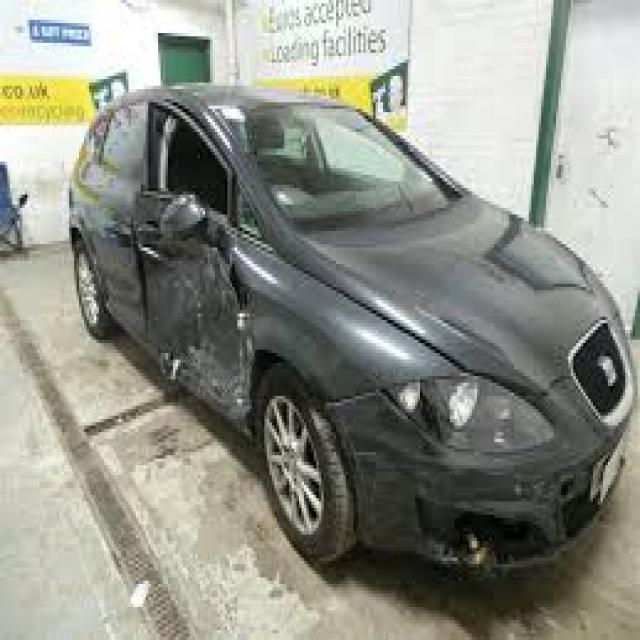moderate: (129, 206, 296, 392)
